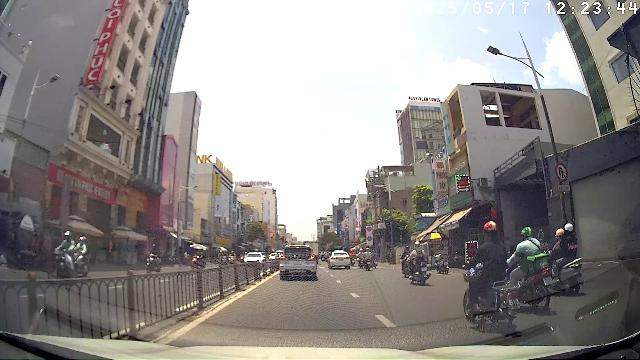124b-cam-oto-quay-dau-xe: (556, 162, 568, 182)
